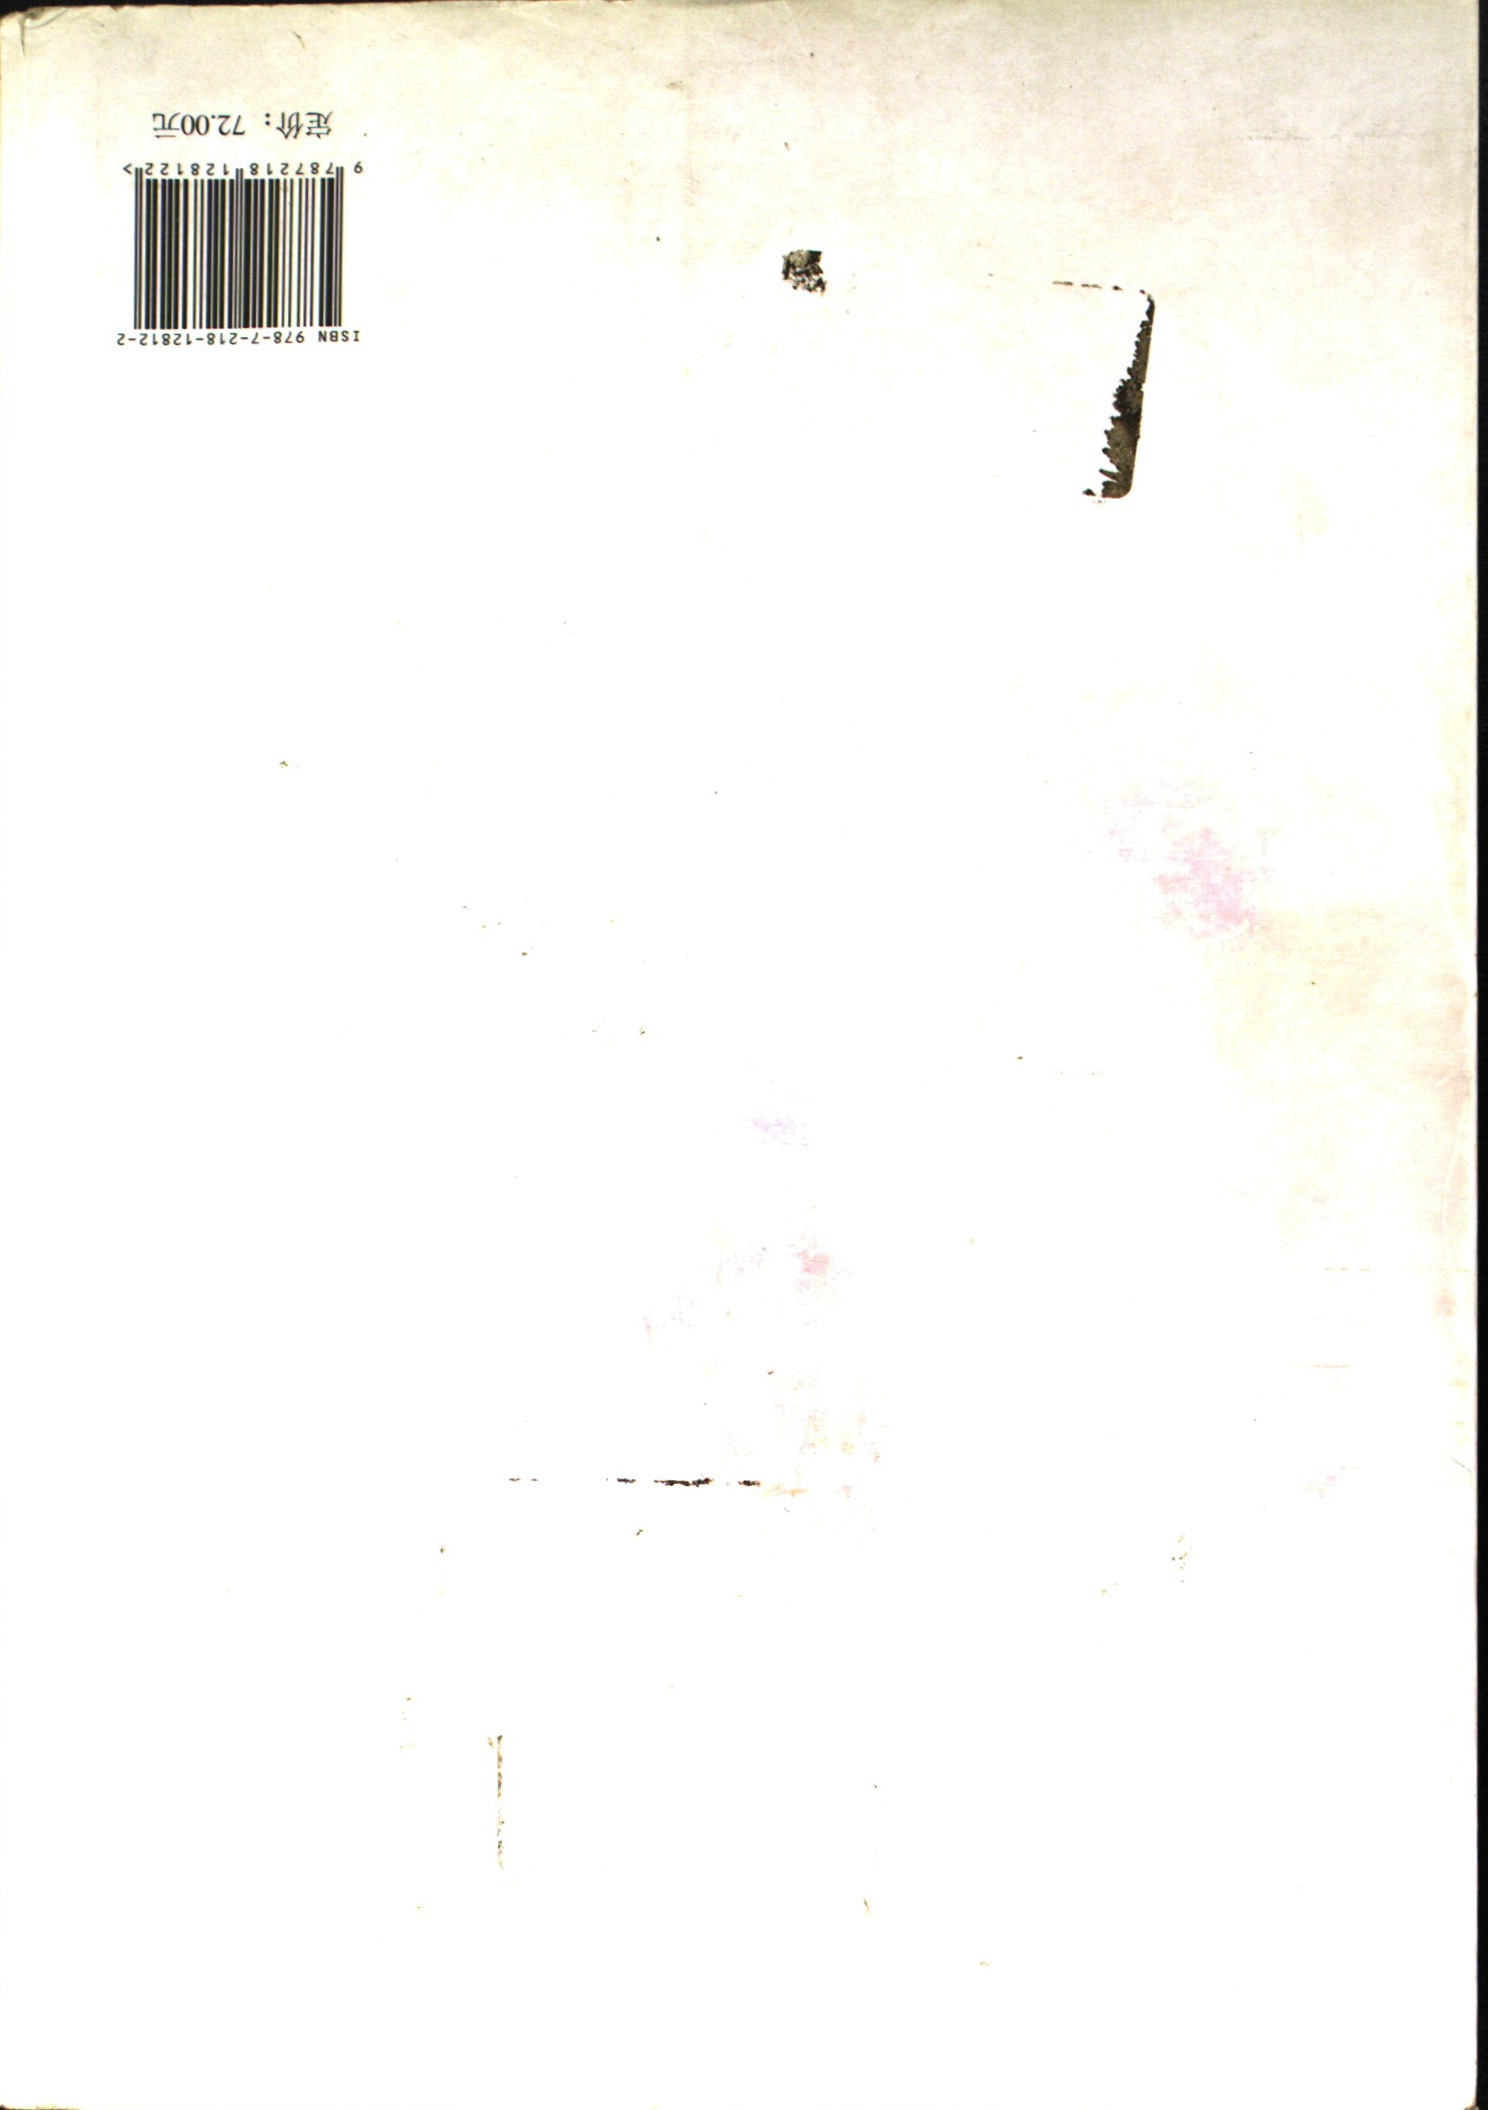barcode: (101, 153, 419, 351)
